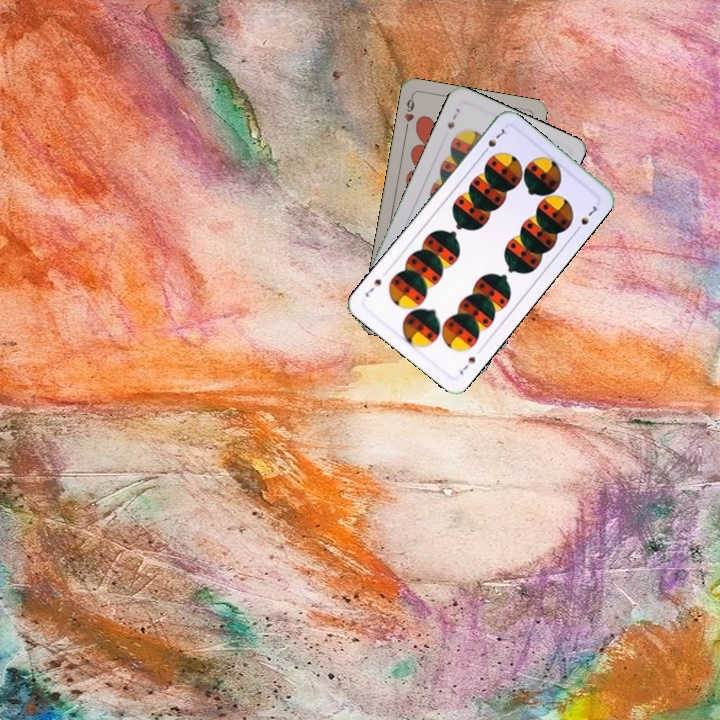H9: (400, 92, 417, 133)
S7: (478, 124, 510, 157), (455, 352, 478, 378), (443, 104, 462, 131)
